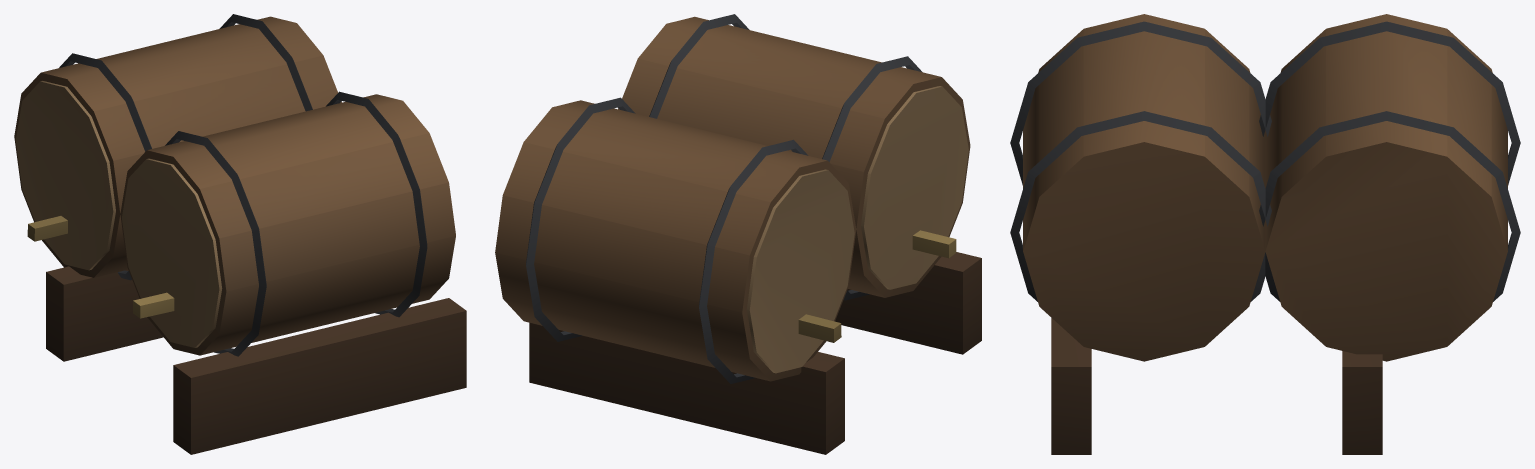
The model's file is ph_int_inn_barrels.glb.
The picture shows the model from 3 angles, left to right: view 1: azimuth 30°, elevation 25°; view 2: azimuth 150°, elevation 25°; view 3: azimuth 270°, elevation 25°; orthographic projection. The views are drawn at different scales.
Visible parts, largest first — view 1: ph_int_inn_barrels; view 2: ph_int_inn_barrels; view 3: ph_int_inn_barrels.
Part boxes in pixels (<box>): ph_int_inn_barrels: <box>14,14,466,454</box>; ph_int_inn_barrels: <box>495,14,981,454</box>; ph_int_inn_barrels: <box>1010,14,1520,454</box>.
Bounding box in the file's own units: 0.9449 × 0.852 × 1.26.
